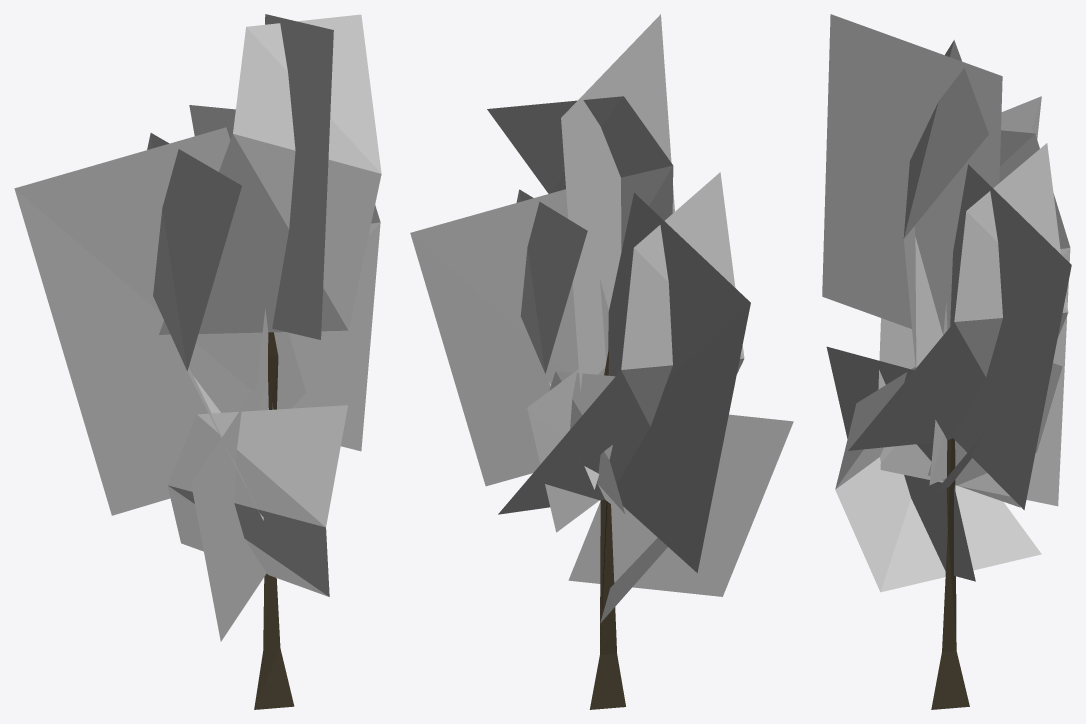
File: NW_NATURE_SMALLTREE_79P.OBJ
3 renders of one model, left to right at view 1: azimuth 30°, elevation 25°; view 2: azimuth 150°, elevation 25°; view 3: azimuth 270°, elevation 25°, orthographic. The views are drawn at different scales.
Visible parts, largest first — view 1: NW_NATURE_SMALLTREE_79P; view 2: NW_NATURE_SMALLTREE_79P; view 3: NW_NATURE_SMALLTREE_79P.
Boxes of the visible parts, x1=… form: NW_NATURE_SMALLTREE_79P: x1=14, y1=14, x2=381, y2=709; NW_NATURE_SMALLTREE_79P: x1=410, y1=14, x2=793, y2=709; NW_NATURE_SMALLTREE_79P: x1=822, y1=14, x2=1071, y2=709.
Bounding box in the file's own units: 6.32 × 12 × 3.94.
